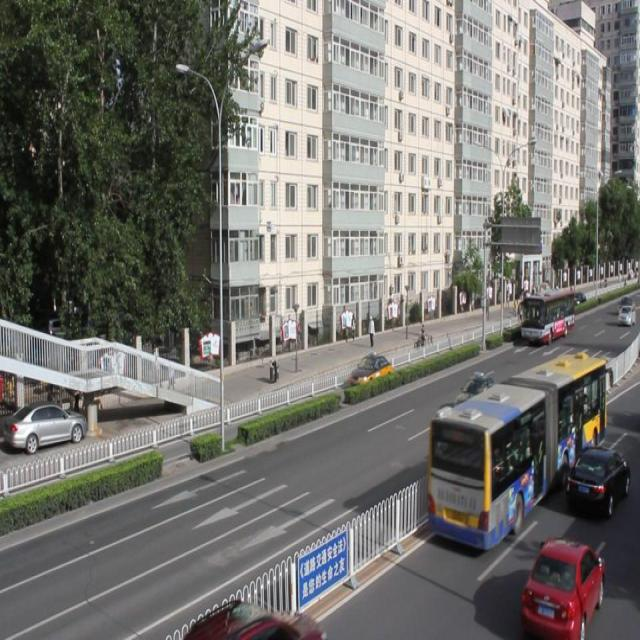car: (519, 534, 601, 640), (195, 602, 323, 640), (567, 442, 628, 514), (453, 373, 501, 421), (350, 352, 390, 389)
van: (427, 356, 602, 554)
